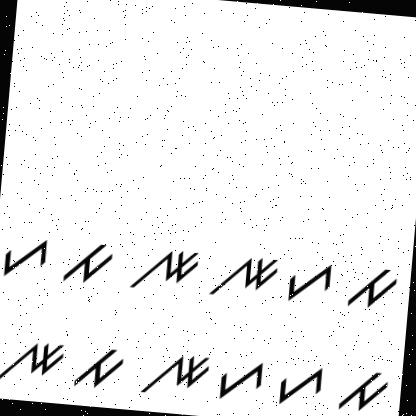ha: (286, 251, 340, 311), (269, 354, 329, 408), (0, 227, 53, 283), (215, 354, 268, 408)
mba: (342, 256, 402, 315), (329, 362, 393, 416), (70, 339, 129, 391), (58, 236, 119, 284)
nda: (206, 243, 282, 309), (132, 342, 212, 403), (130, 239, 204, 304), (0, 326, 68, 392)
